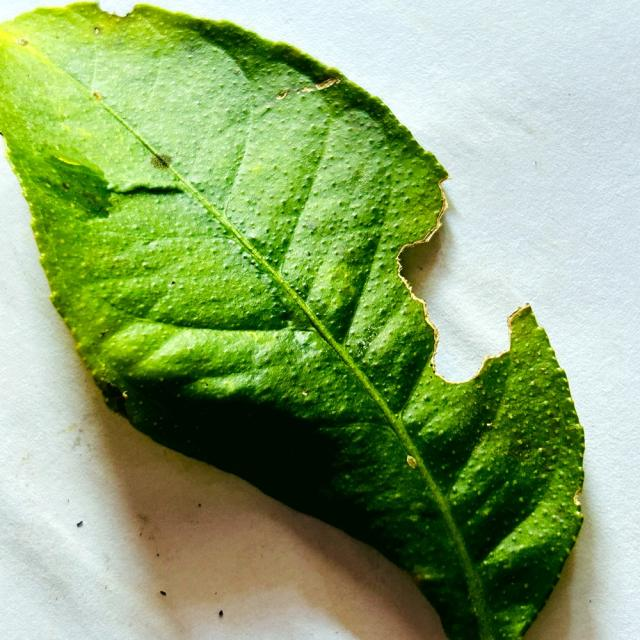Deficiency Leaf: (395, 205, 529, 382)
Lemon: (0, 3, 584, 639)
